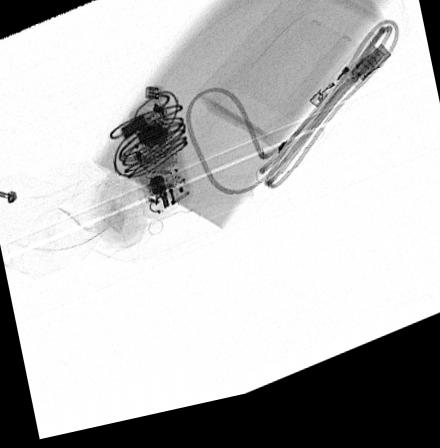Lighter: (308, 47, 382, 123)
